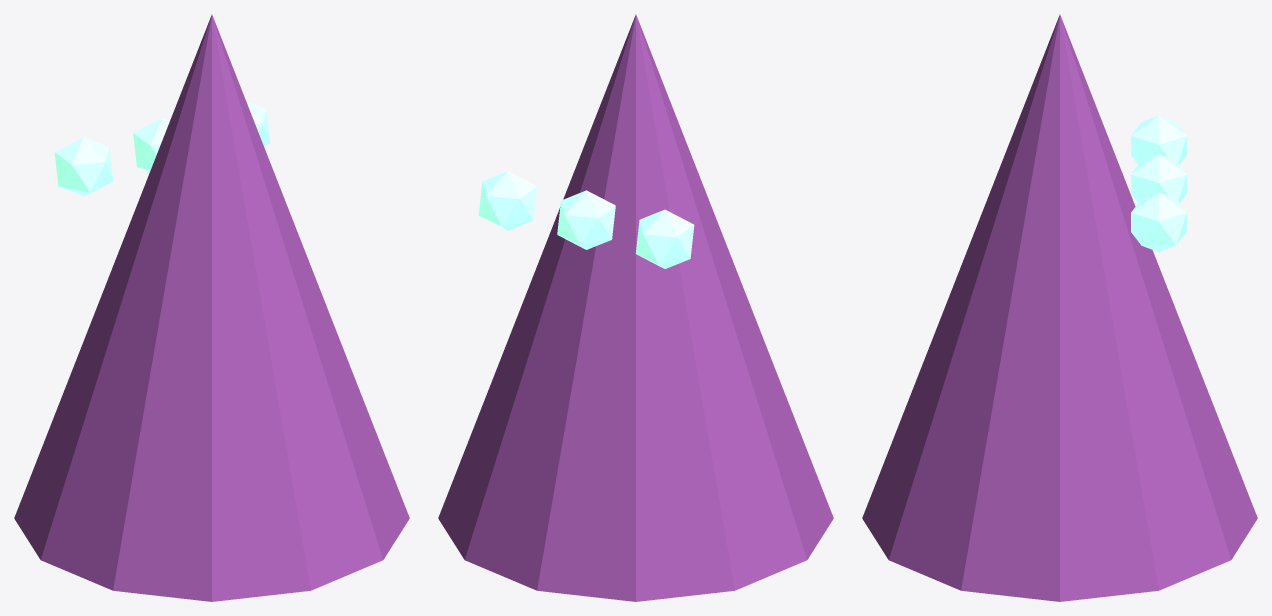
Rendered from npc_alchemist.glb.
3 views of the same model, side by side, from view 1: azimuth 30°, elevation 25°; view 2: azimuth 150°, elevation 25°; view 3: azimuth 270°, elevation 25° (orthographic).
Visible parts, largest first — view 1: Cone, Icosphere, Icosphere.001, Icosphere.002; view 2: Cone, Icosphere.001, Icosphere.002, Icosphere; view 3: Cone, Icosphere.002, Icosphere, Icosphere.001.
Part boxes in pixels (<box>): Cone: <box>14,14,409,601</box>; Icosphere: <box>54,137,113,196</box>; Icosphere.001: <box>133,118,169,172</box>; Icosphere.002: <box>246,101,270,146</box>; Cone: <box>438,14,833,601</box>; Icosphere.001: <box>557,190,615,249</box>; Icosphere.002: <box>478,171,537,230</box>; Icosphere: <box>635,209,694,268</box>; Cone: <box>862,14,1257,601</box>; Icosphere.002: <box>1131,192,1186,251</box>; Icosphere: <box>1131,116,1186,164</box>; Icosphere.001: <box>1131,154,1186,202</box>.
Bounding box in the file's own units: 0.96 × 1.35 × 0.96.
